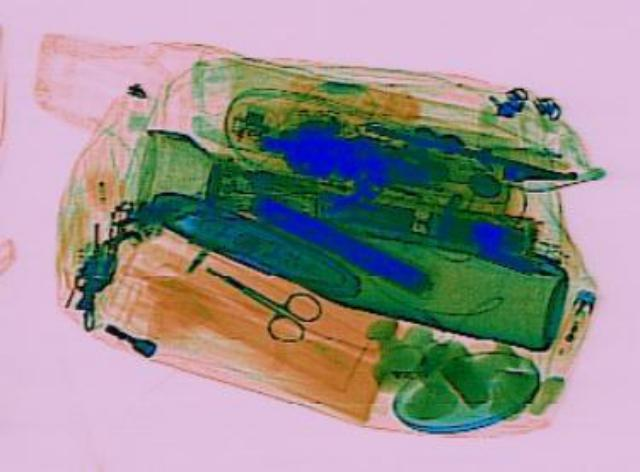Scissors: (189, 253, 337, 347)
